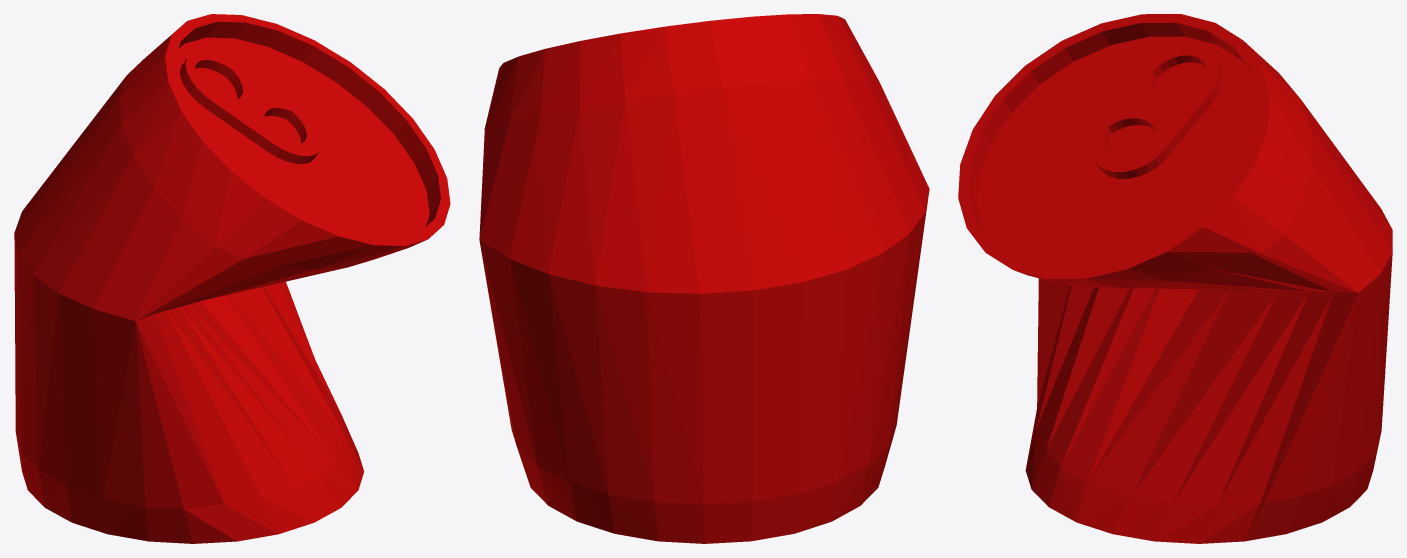
3 renders of one model, left to right at view 1: azimuth 30°, elevation 25°; view 2: azimuth 150°, elevation 25°; view 3: azimuth 270°, elevation 25°, orthographic. The views are drawn at different scales.
Visible parts, largest first — view 1: mesh1_mesh1-geometry; view 2: mesh1_mesh1-geometry; view 3: mesh1_mesh1-geometry.
Part boxes in pixels (<box>): mesh1_mesh1-geometry: <box>14,14,450,543</box>; mesh1_mesh1-geometry: <box>479,14,929,543</box>; mesh1_mesh1-geometry: <box>958,14,1392,543</box>.
Size of the model in its own units: 0.5545 by 0.6206 by 0.5545.
